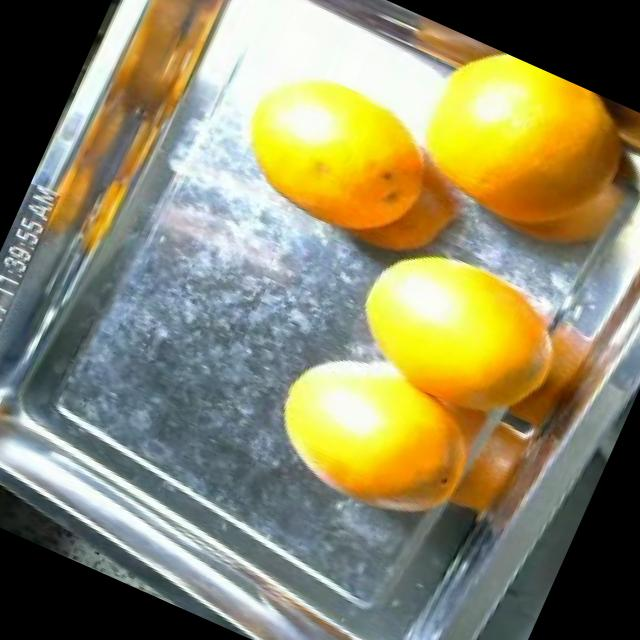Fruit: (240, 311, 487, 544)
